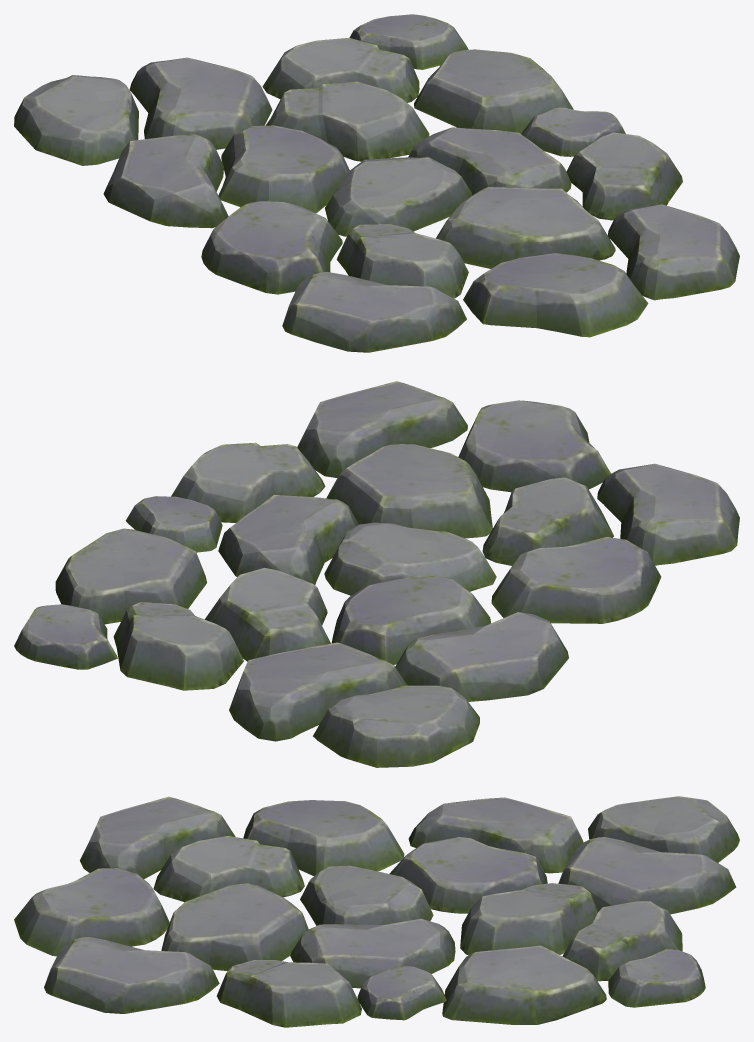
The model's file is RockPath_Round_Thin.gltf.
3 views of the same model, one above another, from view 1: azimuth 30°, elevation 25°; view 2: azimuth 150°, elevation 25°; view 3: azimuth 270°, elevation 25° (orthographic). The views are drawn at different scales.
Visible parts, largest first — view 1: RockPath_Round_Thin; view 2: RockPath_Round_Thin; view 3: RockPath_Round_Thin.
Boxes of the visible parts, x1=… form: RockPath_Round_Thin: x1=14, y1=14, x2=739, y2=352; RockPath_Round_Thin: x1=14, y1=381, x2=739, y2=767; RockPath_Round_Thin: x1=14, y1=796, x2=739, y2=1027.
Bounding box in the file's own units: 1.46 × 0.1103 × 2.09.
1 material, 1 textured.
